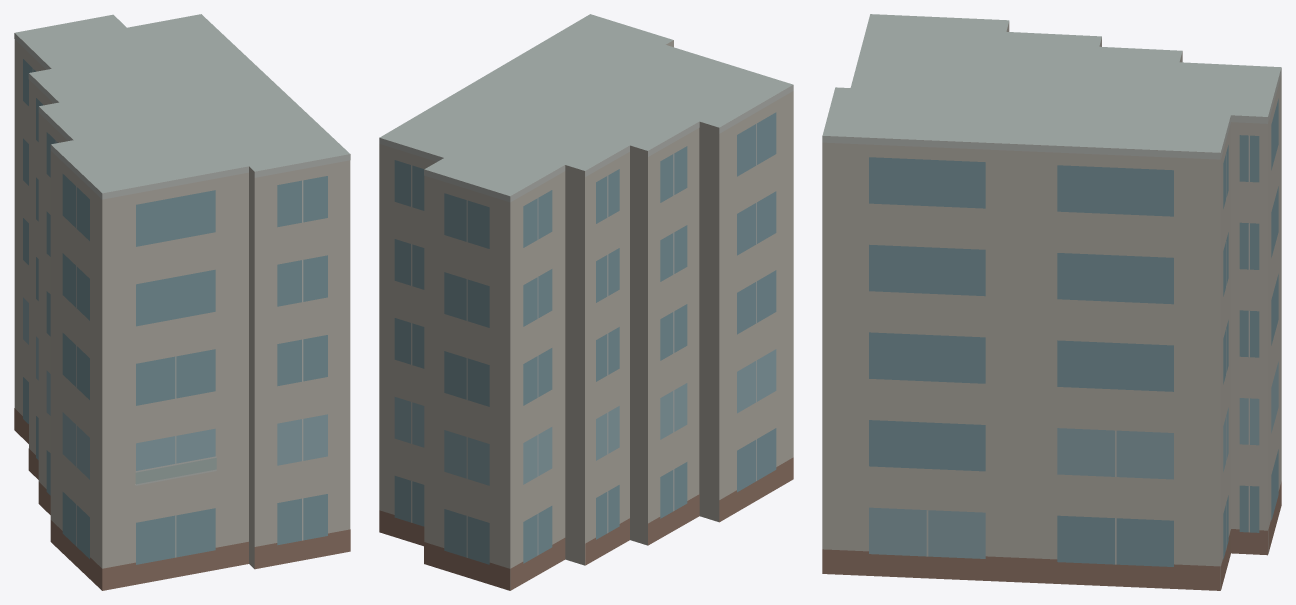
File: survey-upis-32579367.glb
3 views of the same model, side by side, from view 1: azimuth 30°, elevation 25°; view 2: azimuth 150°, elevation 25°; view 3: azimuth 270°, elevation 25° (orthographic). The views are drawn at different scales.
Visible parts, largest first — view 1: survey-upis-32579367.tmp; view 2: survey-upis-32579367.tmp; view 3: survey-upis-32579367.tmp.
Part boxes in pixels (x1,y1,x2,y2): survey-upis-32579367.tmp: [14, 14, 350, 590]; survey-upis-32579367.tmp: [379, 14, 793, 590]; survey-upis-32579367.tmp: [822, 14, 1281, 590].
Size of the model in its own units: 10.61 by 15.6 by 14.83.
